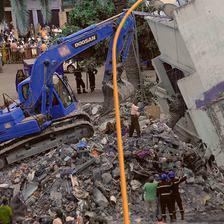Destroyed_Building: (107, 0, 224, 224)
